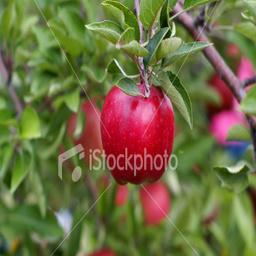apple: (101, 86, 175, 184)
